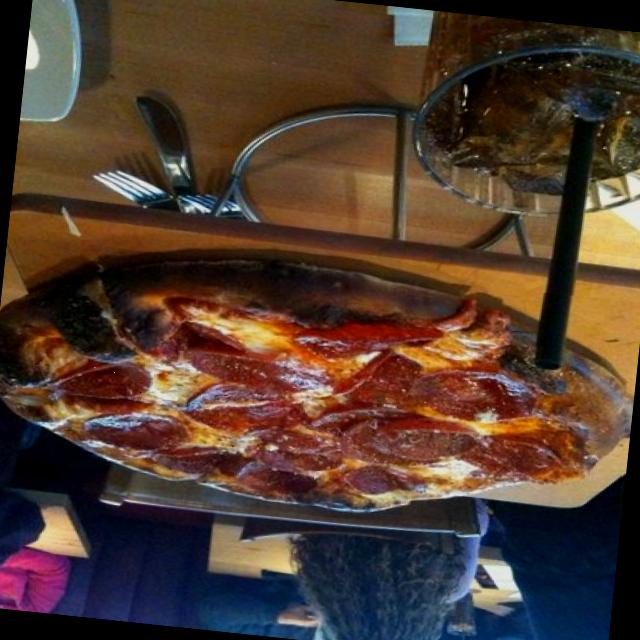pepperoni: (305, 322, 548, 430), (31, 340, 166, 426), (185, 346, 323, 404), (353, 410, 465, 478), (459, 423, 564, 478), (252, 423, 344, 485), (90, 403, 178, 466), (164, 437, 248, 483), (341, 464, 425, 499)
pizza: (0, 260, 628, 511)
